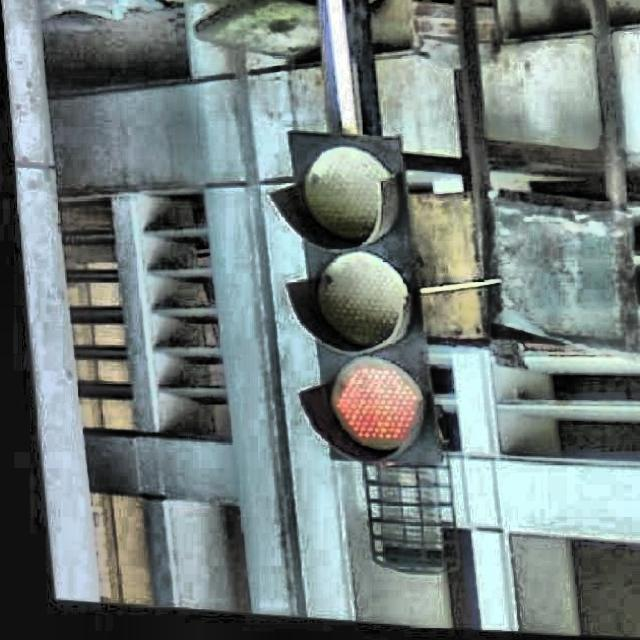red: (288, 137, 419, 468)
